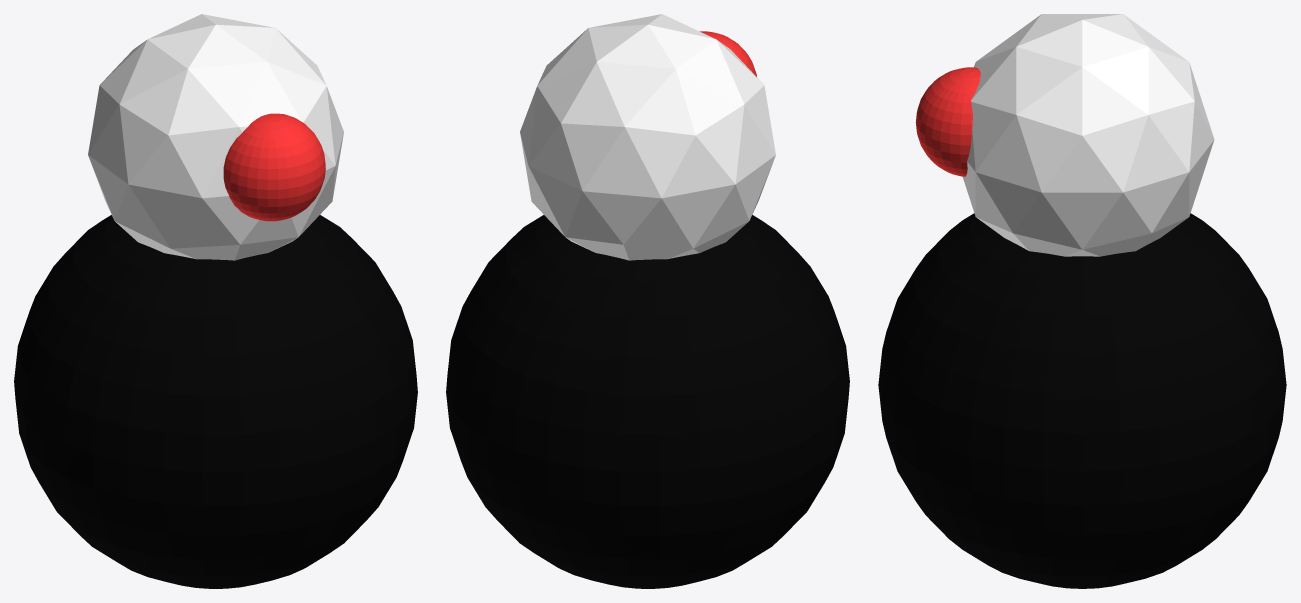
Rendered from kariEnemy.obj.
3 renders of one model, left to right at view 1: azimuth 30°, elevation 25°; view 2: azimuth 150°, elevation 25°; view 3: azimuth 270°, elevation 25°, orthographic.
Parts seen in each view (by area): view 1: 球.001; view 2: 球.001; view 3: 球.001.
Part boxes in pixels (<box>): 球.001: <box>14,14,417,588</box>; 球.001: <box>446,14,849,588</box>; 球.001: <box>878,14,1286,588</box>.
Size of the model in its own units: 1.6 by 2.38 by 1.6.
1 material, 1 textured.
